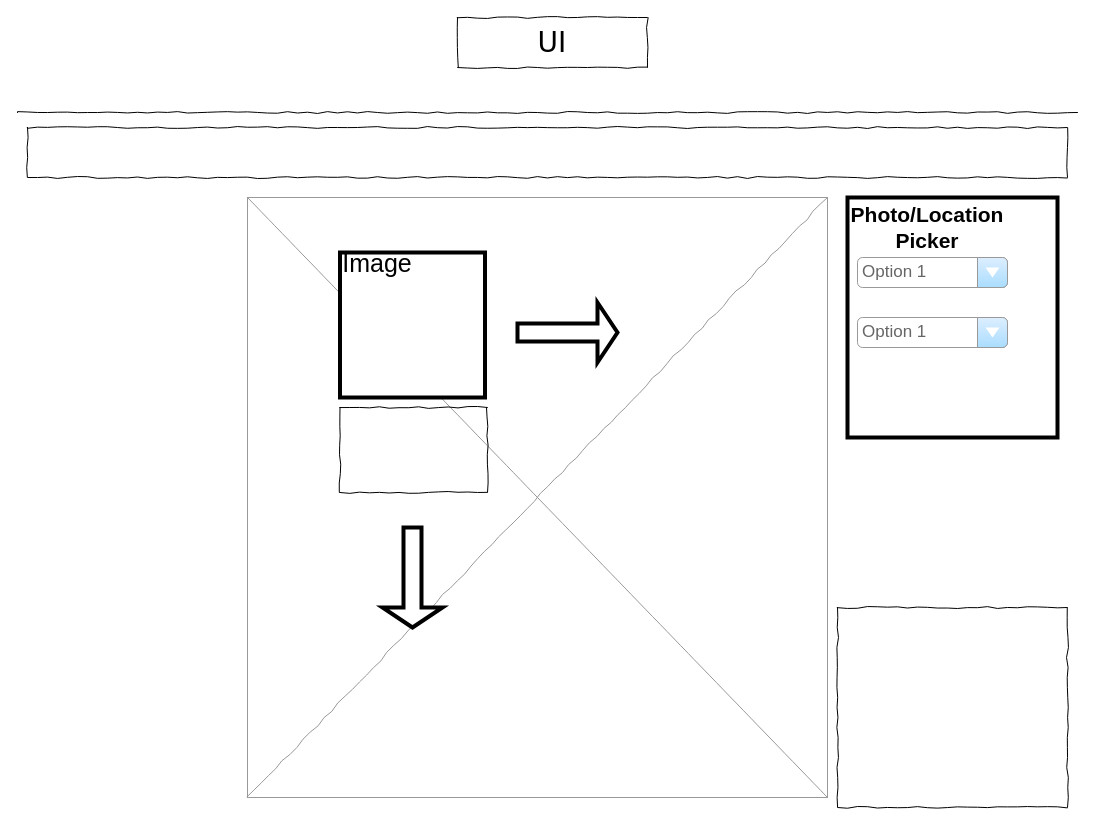
This 1095x825 diagram has some shape labels left out. Each missing label, with the centre of its shape:
External Links: point (952, 707)
Insightful Object.prop: point (413, 449)
